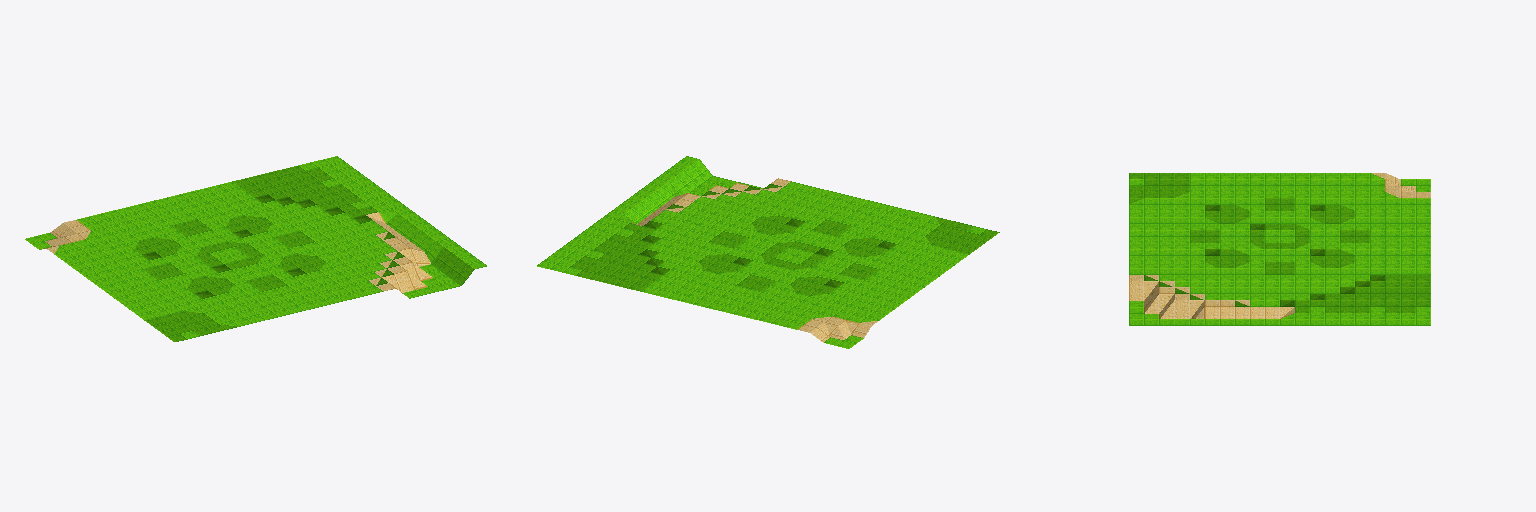
3 views of the same model, side by side, from view 1: azimuth 30°, elevation 25°; view 2: azimuth 150°, elevation 25°; view 3: azimuth 270°, elevation 25° (orthographic).
Visible parts, largest first — view 1: FloorSide_2; view 2: FloorSide_2; view 3: FloorSide_2.
Part boxes in pixels (x1,y1,x2,y2): FloorSide_2: (25,156,486,341); FloorSide_2: (537,156,999,348); FloorSide_2: (1129,173,1430,325).
Bounding box in the file's own units: 24 × 0.9857 × 20.
11 materials, 11 textured.